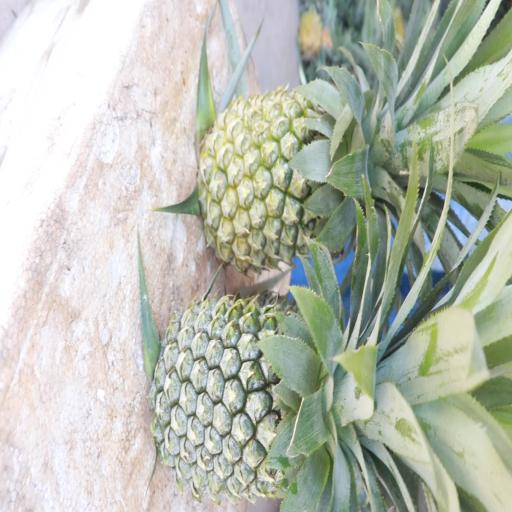Pineapple - v8 v1: (198, 81, 396, 265)
